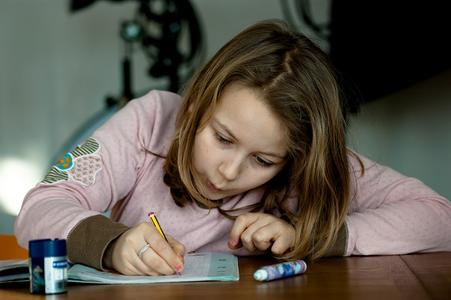person: (15, 21, 451, 276)
